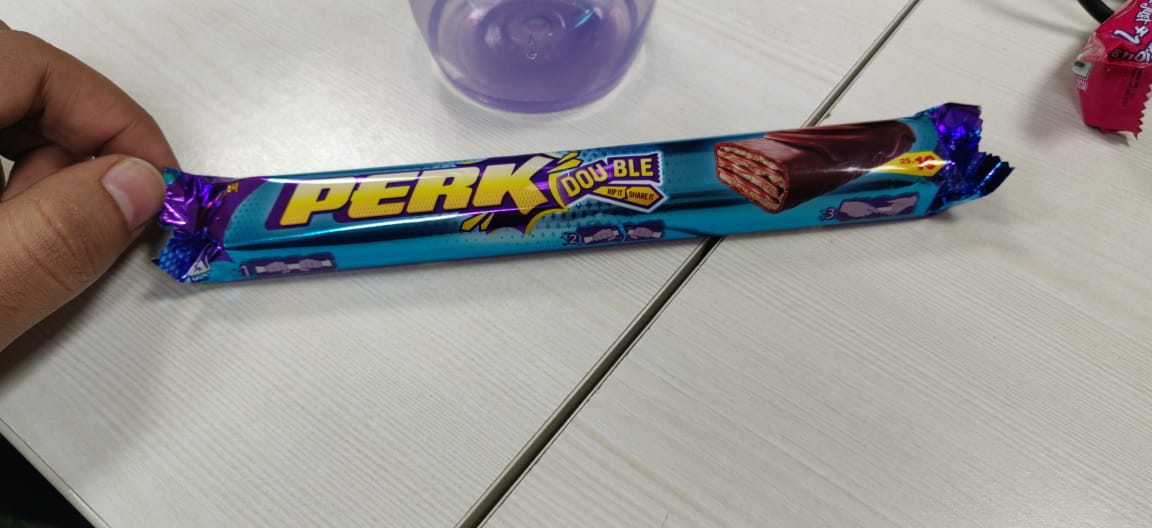perk: (149, 96, 1021, 294)
